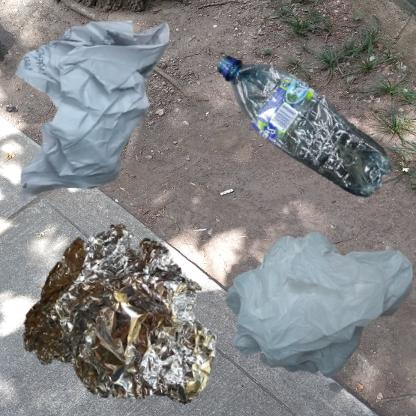aluminio: (10, 213, 226, 416)
bolsa: (213, 213, 416, 404)
botella: (213, 10, 416, 296)
papel: (10, 10, 171, 209)
